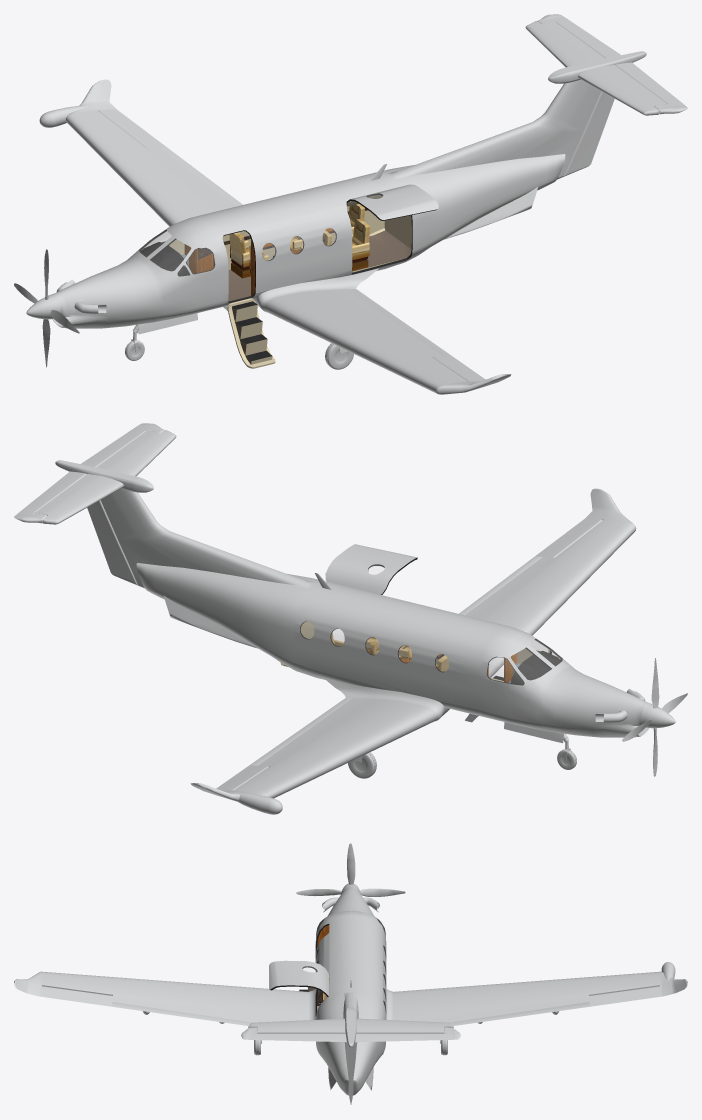
The picture shows the model from 3 angles, top to bottom: view 1: azimuth 30°, elevation 25°; view 2: azimuth 150°, elevation 25°; view 3: azimuth 270°, elevation 25°; orthographic projection. The views are drawn at different scales.
Visible parts, largest first — view 1: Object_4.005, Object_3.002, Object_17.002, Object_5.003, Object_7.006, Object_22.001, Object_20.001, Object_16.001, Object_6.006, Object_2.004; view 2: Object_4.005, Object_3.002, Object_22.001, Object_7.006, Object_5.003, Object_17.002, Object_6.006, Object_2.004, Object_20.001; view 3: Object_4.005, Object_3.002, Object_5.003, Object_7.006, Object_17.002.
Boxes of the visible parts, <box> form: Object_4.005: <box>14,14,687,381</box>; Object_3.002: <box>53,79,655,394</box>; Object_17.002: <box>139,206,412,368</box>; Object_5.003: <box>131,147,537,356</box>; Object_7.006: <box>26,51,646,319</box>; Object_22.001: <box>139,193,382,276</box>; Object_20.001: <box>229,204,369,278</box>; Object_16.001: <box>184,193,437,295</box>; Object_6.006: <box>125,340,353,369</box>; Object_2.004: <box>141,242,190,275</box>; Object_4.005: <box>14,423,687,790</box>; Object_3.002: <box>39,488,648,801</box>; Object_22.001: <box>300,564,562,685</box>; Object_7.006: <box>55,460,675,814</box>; Object_5.003: <box>163,556,570,765</box>; Object_17.002: <box>280,621,562,685</box>; Object_6.006: <box>348,749,576,778</box>; Object_2.004: <box>508,651,560,684</box>; Object_20.001: <box>331,632,448,671</box>; Object_4.005: <box>42,843,659,1095</box>; Object_3.002: <box>14,971,687,1104</box>; Object_5.003: <box>112,1002,589,1090</box>; Object_7.006: <box>322,883,675,1047</box>; Object_17.002: <box>299,918,386,1054</box>.
Bounding box in the file's own units: 14.45 × 4.21 × 16.28.
Materials: 16 (12 with a texture image).
